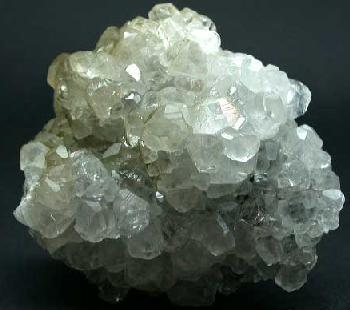calcite: (14, 4, 345, 302)
